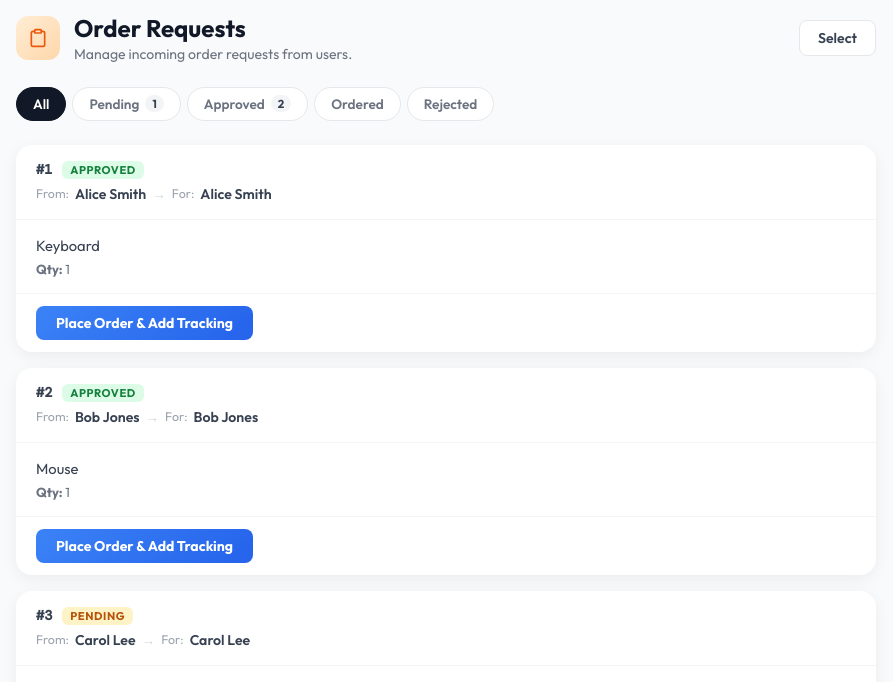
Scenario: Select mode › Select button toggles select mode on/off
Click the button "Select" at [838, 38], box [799,20,876,56]
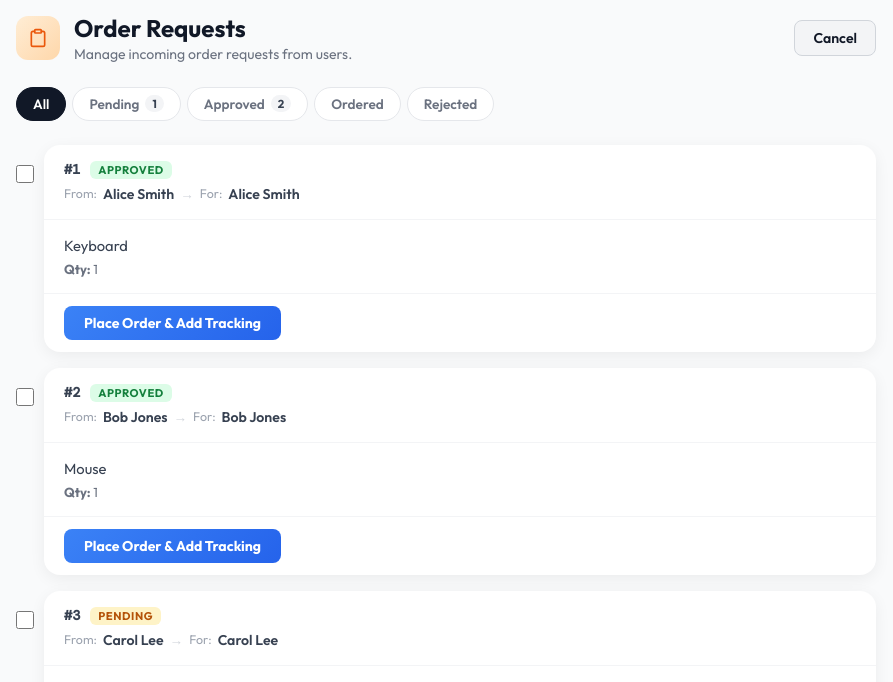
Check: the button "Cancel" is shown
Click the button "Cancel" at [835, 38], box [794,20,876,56]
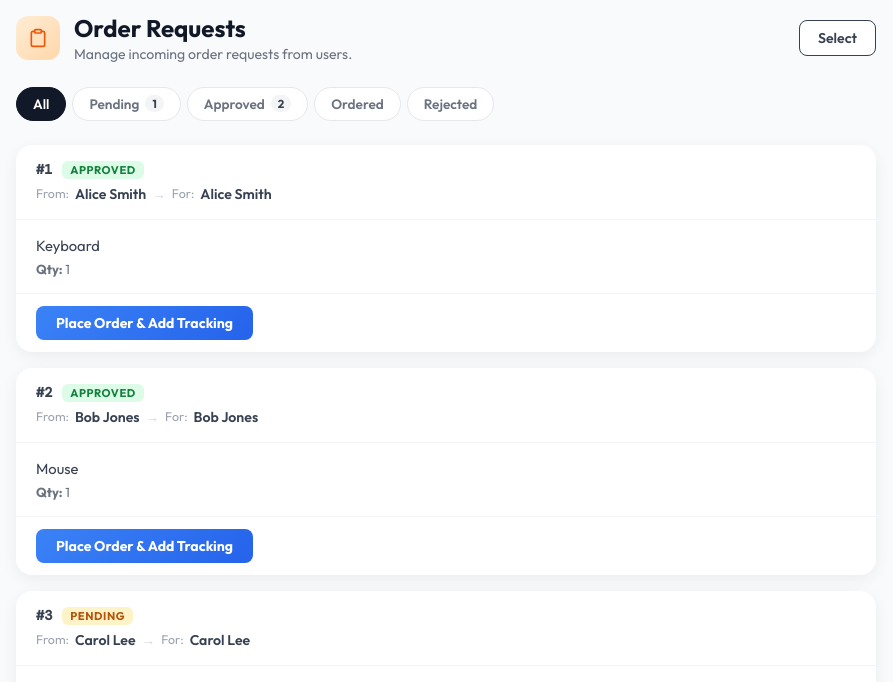
Check: the button "Select" is shown, box [799,20,876,56]
